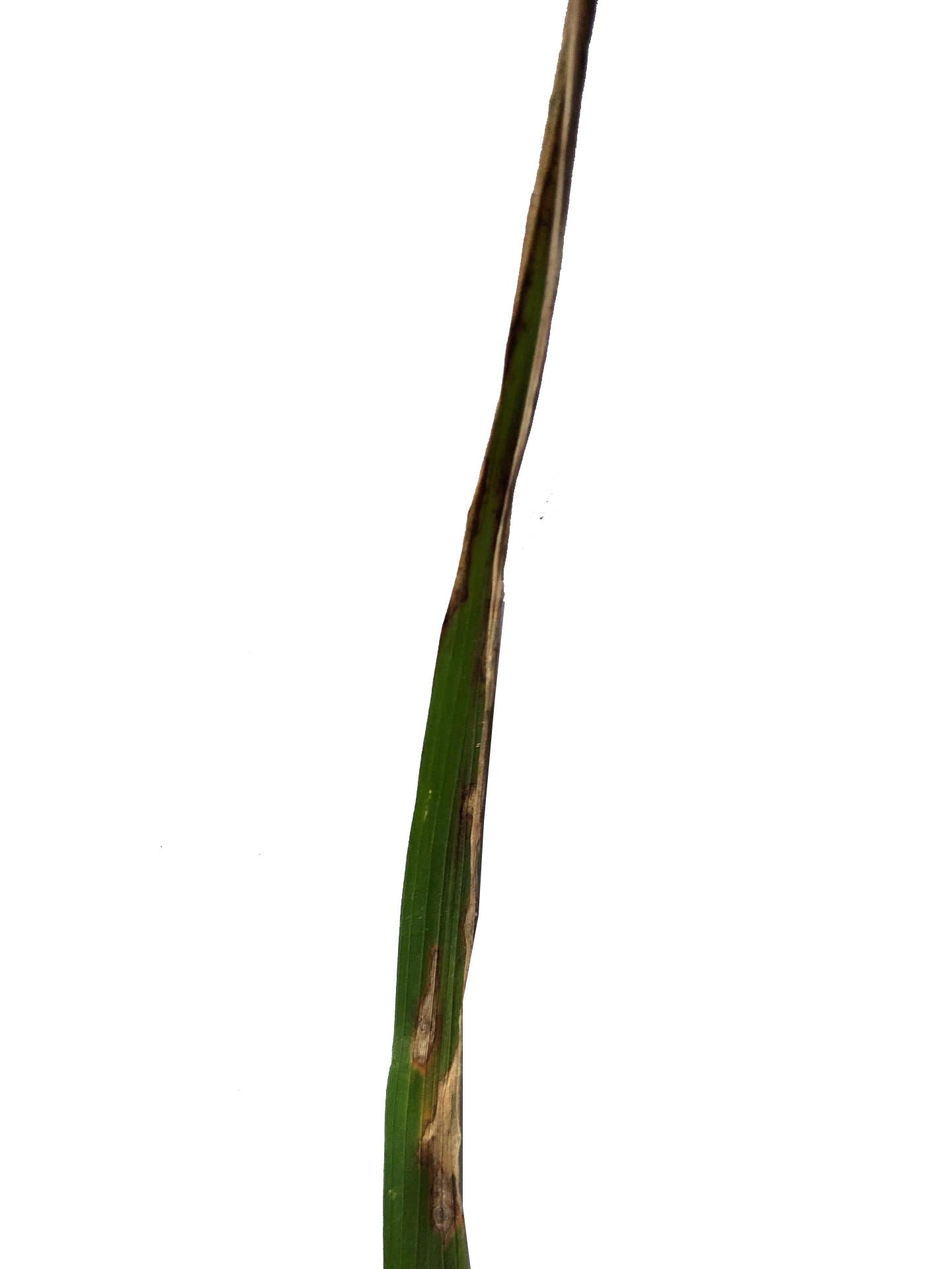Blight: (456, 482, 506, 932), (400, 1041, 476, 1210)
